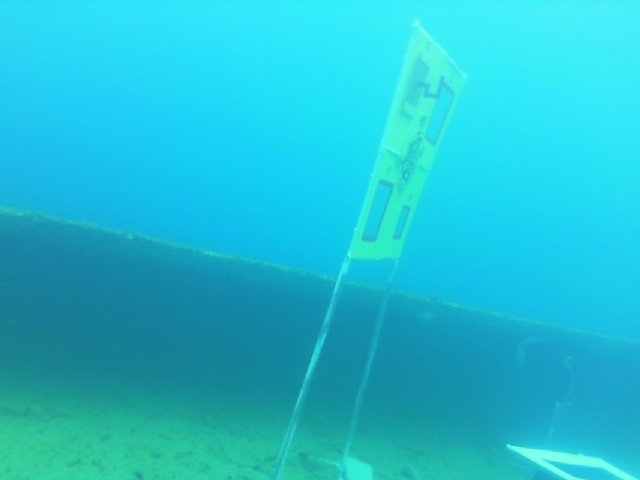torpedo_target: (321, 14, 472, 264)
